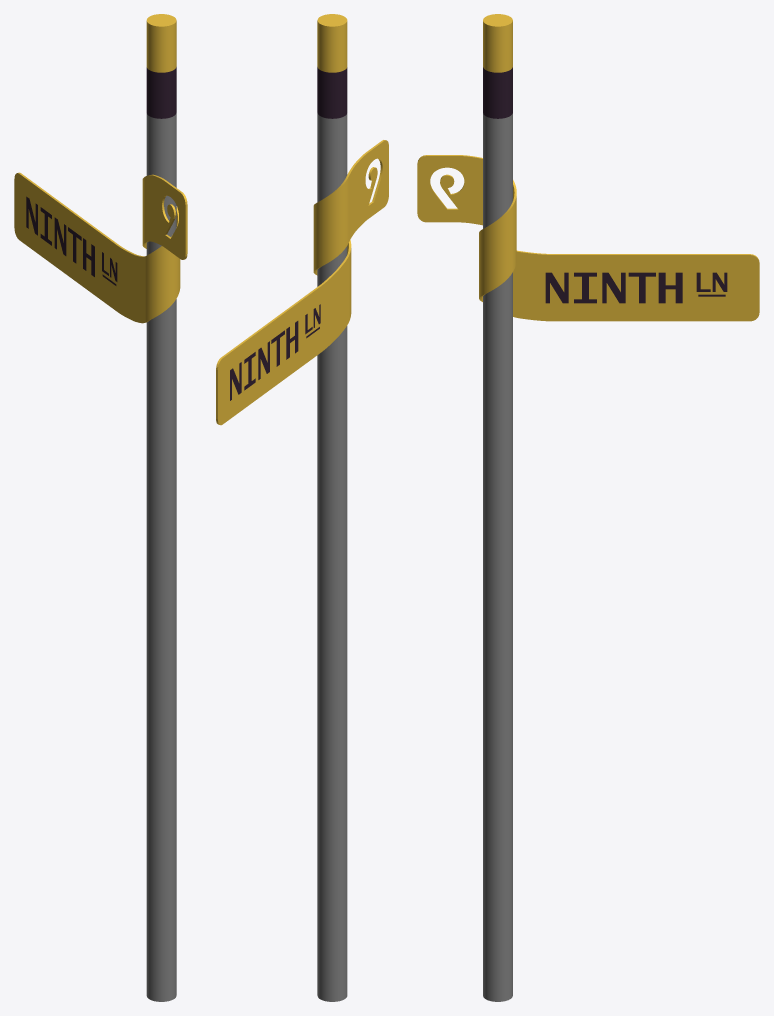
Rendered from LNWAY.glb.
3 renders of one model, left to right at view 1: azimuth 30°, elevation 25°; view 2: azimuth 150°, elevation 25°; view 3: azimuth 270°, elevation 25°, orthographic.
Parts seen in each view (by area): view 1: Mesh111.009, Plane.057, Plane.058, Plane.056, Text; view 2: Mesh111.009, Plane.057, Plane.056, Plane.058, Text; view 3: Mesh111.009, Plane.057, Plane.058, Text.001, Plane.056.
Boxes of the visible parts, x1,y1,x2,y2 form: Mesh111.009: (146,14,176,1001); Plane.057: (14,172,145,323); Plane.058: (145,174,187,259); Plane.056: (142,177,180,322); Text: (26,196,117,285); Mesh111.009: (317,14,347,1001); Plane.057: (216,256,348,425); Plane.056: (313,176,351,322); Plane.058: (347,140,388,242); Text: (230,304,320,400); Mesh111.009: (483,14,512,1001); Plane.057: (513,250,759,321); Plane.058: (417,155,482,225); Text.001: (545,272,727,303); Plane.056: (479,180,516,301).
Size of the model in its own units: 0.0941 by 2.69 by 0.8542.
